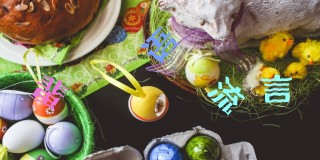流: (207, 75, 246, 115)
蜚: (32, 73, 66, 109)
言: (262, 74, 293, 105)
语: (142, 27, 179, 61)
